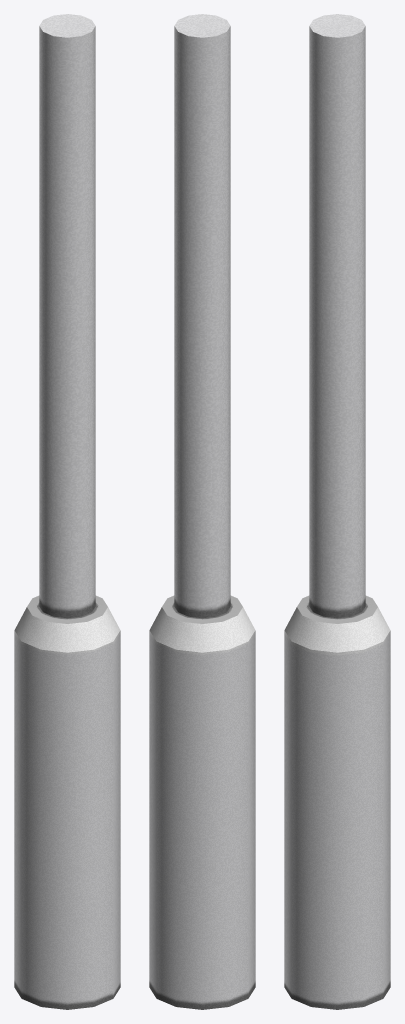
File: Md_Pole.fbx
3 renders of one model, left to right at view 1: azimuth 90°, elevation 25°; view 2: azimuth 150°, elevation 25°; view 3: azimuth 270°, elevation 25°, orthographic.
Parts seen in each view (by area): view 1: pCylinder1; view 2: pCylinder1; view 3: pCylinder1.
Boxes of the visible parts, x1,y1,x2,y2 form: pCylinder1: [14, 14, 120, 1009]; pCylinder1: [149, 14, 255, 1009]; pCylinder1: [284, 14, 390, 1009].
Size of the model in its own units: 50 by 500 by 50.
